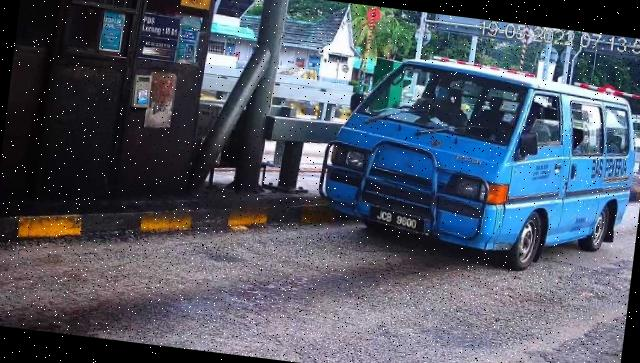License_Plate: (367, 205, 430, 237)
van: (313, 48, 640, 283)
